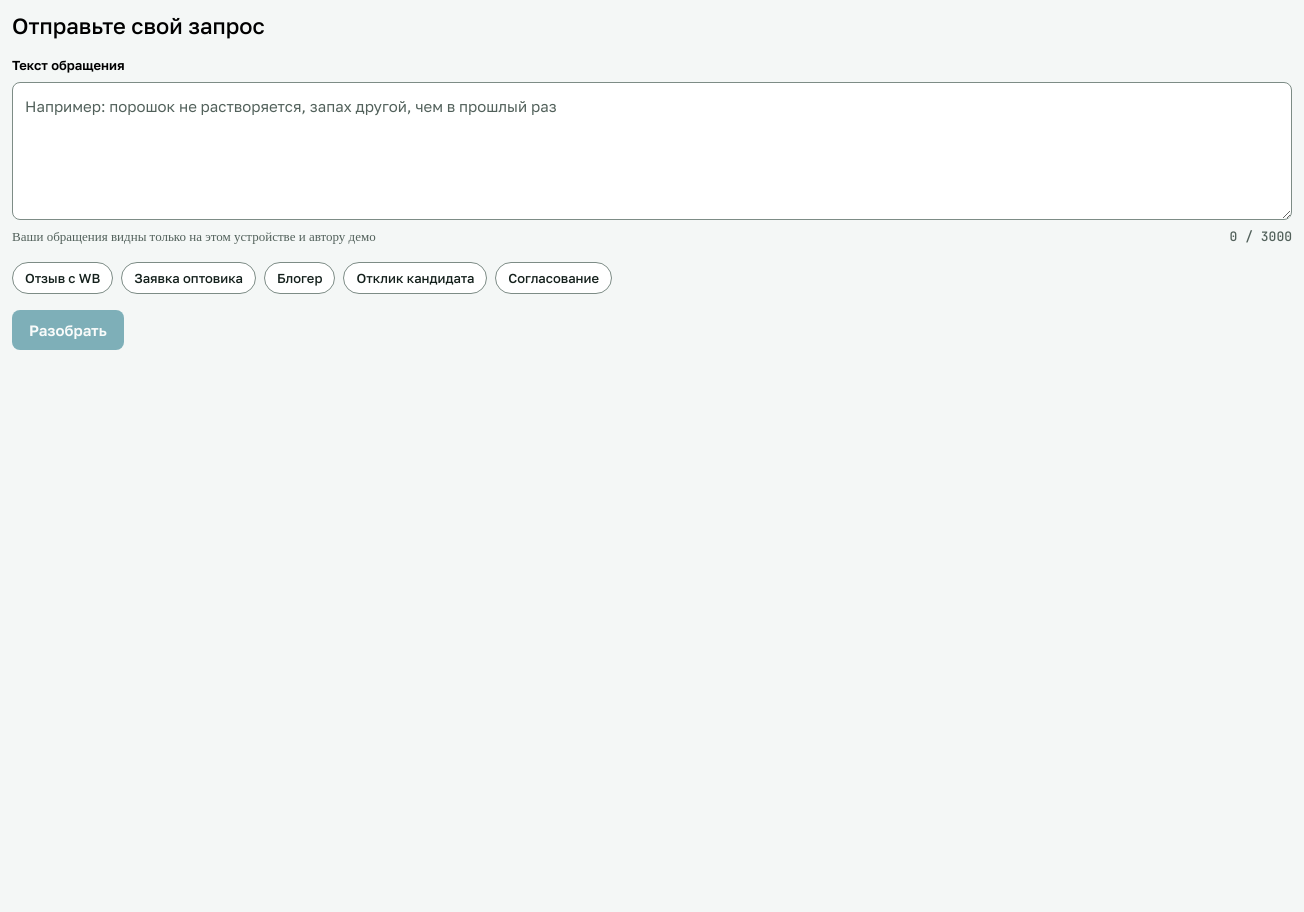
Test: Triage › после сбоя черновика «Повторить» запрашивает только черновик
Click the button "Отзыв с WB".
click(63, 278)  # box [12,262,113,294]
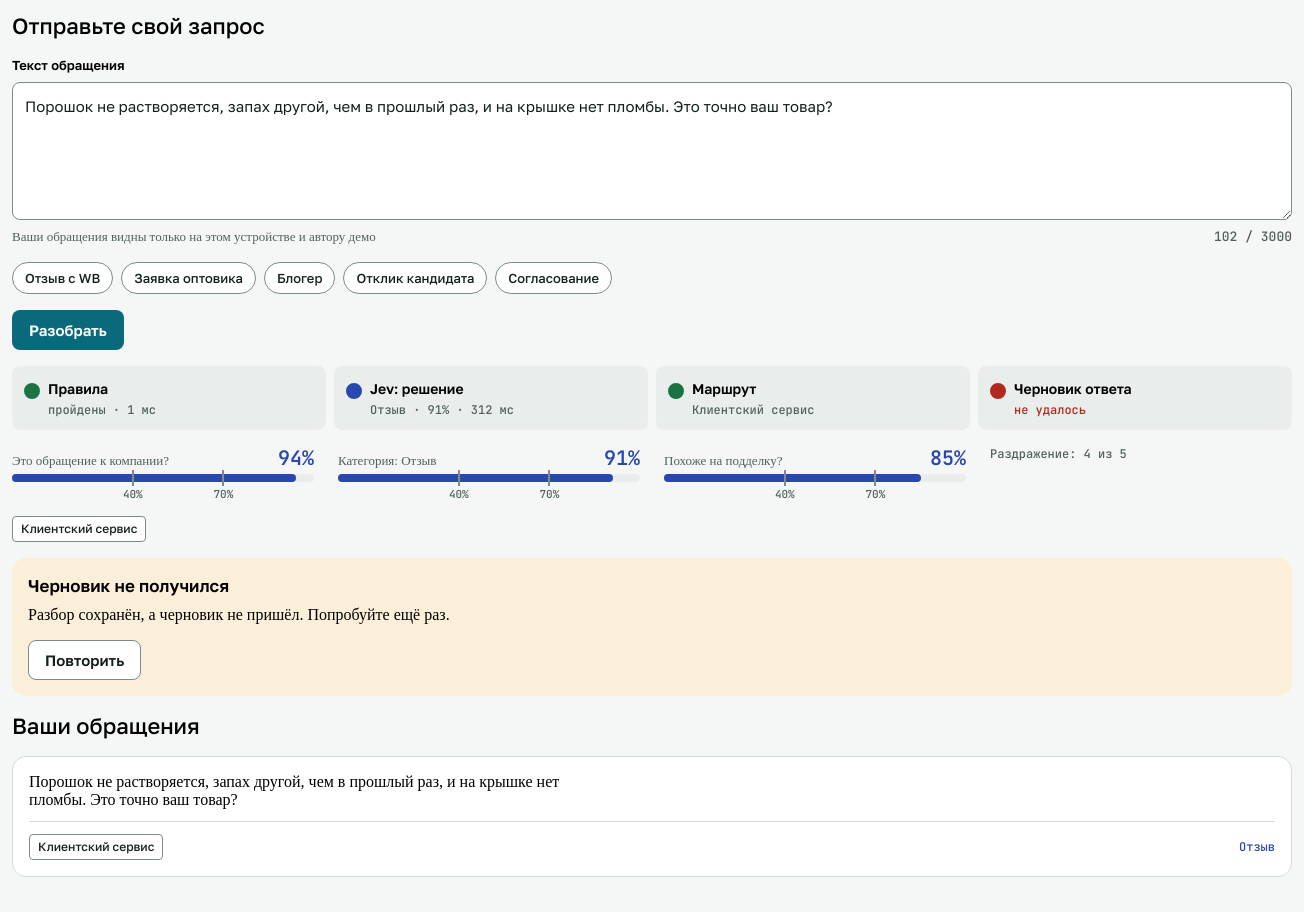
Click the button "Повторить".
click(85, 660)  # box [28,640,141,680]
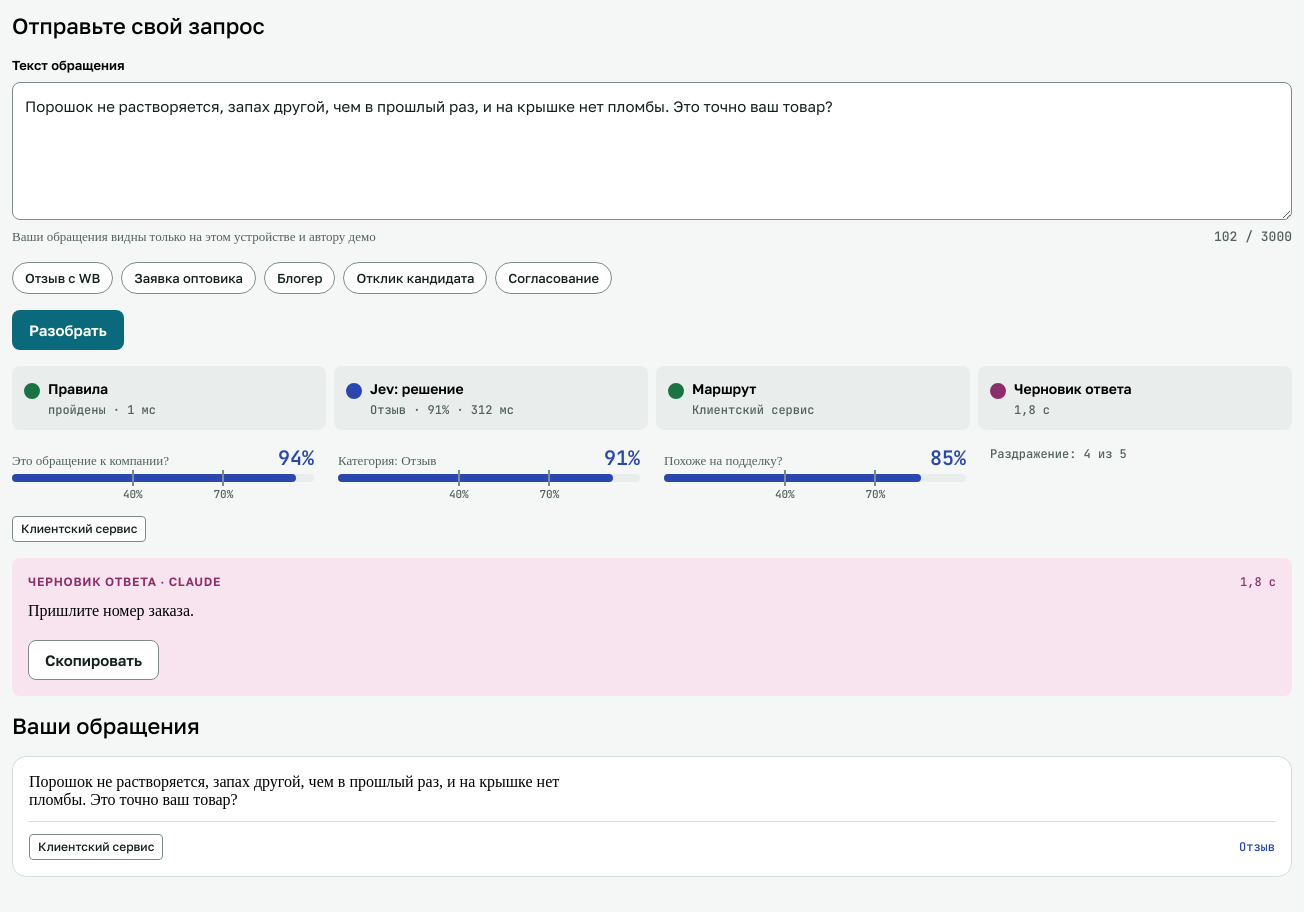
Now the text "Пришлите номер заказа." is shown, box [28,602,194,619]
